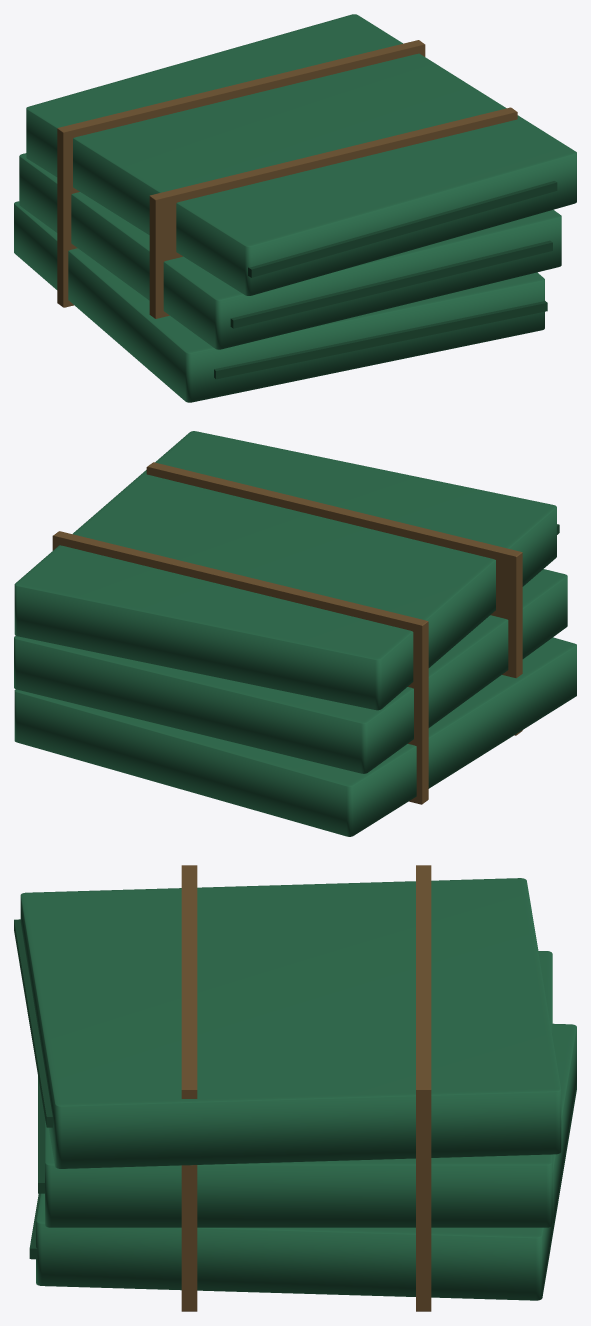
Rendered from stoff_fein.glb.
3 renders of one model, top to bottom at view 1: azimuth 30°, elevation 25°; view 2: azimuth 150°, elevation 25°; view 3: azimuth 270°, elevation 25°, orthographic. The views are drawn at different scales.
Visible parts, largest first — view 1: Cube.004, Cube, Cube.002, Cube.007, Cube.006, Cube.001, Cube.003, Cube.005; view 2: Cube.004, Cube, Cube.002, Cube.007, Cube.006; view 3: Cube.004, Cube, Cube.002, Cube.007, Cube.006, Cube.005, Cube.003.
Boxes of the visible parts, left/top/right/bottom form: Cube.004: left=26, top=14, right=576, bottom=295; Cube: left=14, top=201, right=544, bottom=402; Cube.002: left=19, top=153, right=561, bottom=349; Cube.007: left=57, top=40, right=425, bottom=307; Cube.006: left=149, top=107, right=517, bottom=318; Cube.001: left=214, top=300, right=547, bottom=379; Cube.003: left=230, top=240, right=552, bottom=328; Cube.005: left=248, top=181, right=557, bottom=277; Cube.004: left=14, top=431, right=556, bottom=710; Cube: left=14, top=637, right=576, bottom=836; Cube.002: left=14, top=569, right=567, bottom=773; Cube.007: left=52, top=531, right=428, bottom=804; Cube.006: left=146, top=462, right=522, bottom=735; Cube.004: left=20, top=878, right=561, bottom=1168; Cube: left=36, top=1023, right=576, bottom=1300; Cube.002: left=45, top=951, right=552, bottom=1227; Cube.007: left=416, top=865, right=431, bottom=1311; Cube.006: left=181, top=865, right=197, bottom=1311; Cube.005: left=14, top=919, right=52, bottom=1127; Cube.003: left=38, top=1076, right=44, bottom=1193.
Size of the model in its own units: 0.2891 by 0.126 by 0.2884.
